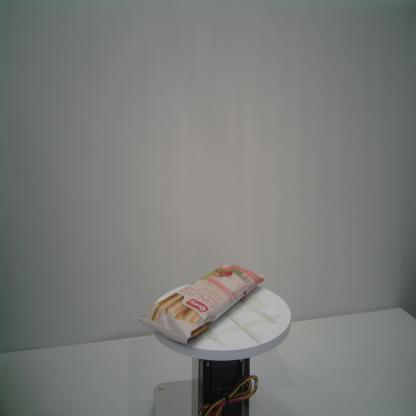Dessert: (136, 264, 265, 345)
